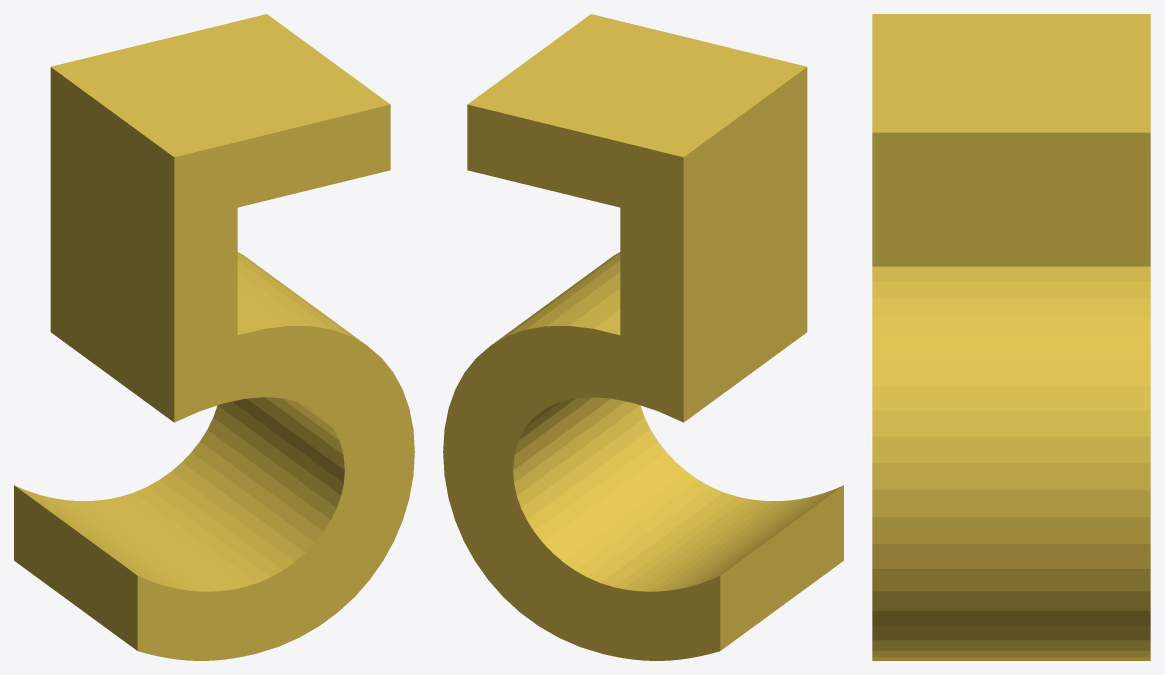
File: Mambo Numba Five.glb
3 renders of one model, left to right at view 1: azimuth 30°, elevation 25°; view 2: azimuth 150°, elevation 25°; view 3: azimuth 270°, elevation 25°, orthographic. The views are drawn at different scales.
Visible parts, largest first — view 1: 5; view 2: 5; view 3: 5.
Boxes of the visible parts, <box> form: 5: <box>14,14,414,660</box>; 5: <box>443,14,843,660</box>; 5: <box>872,14,1150,660</box>.
Bounding box in the file's own units: 3.88 × 6.91 × 3.
